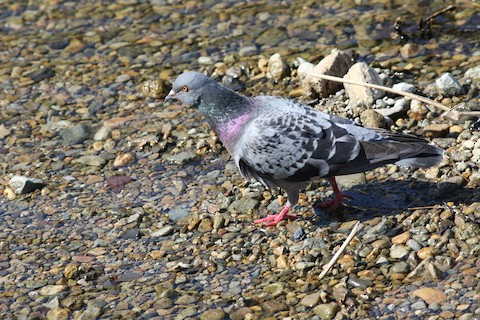pigeon: (157, 63, 450, 229)
